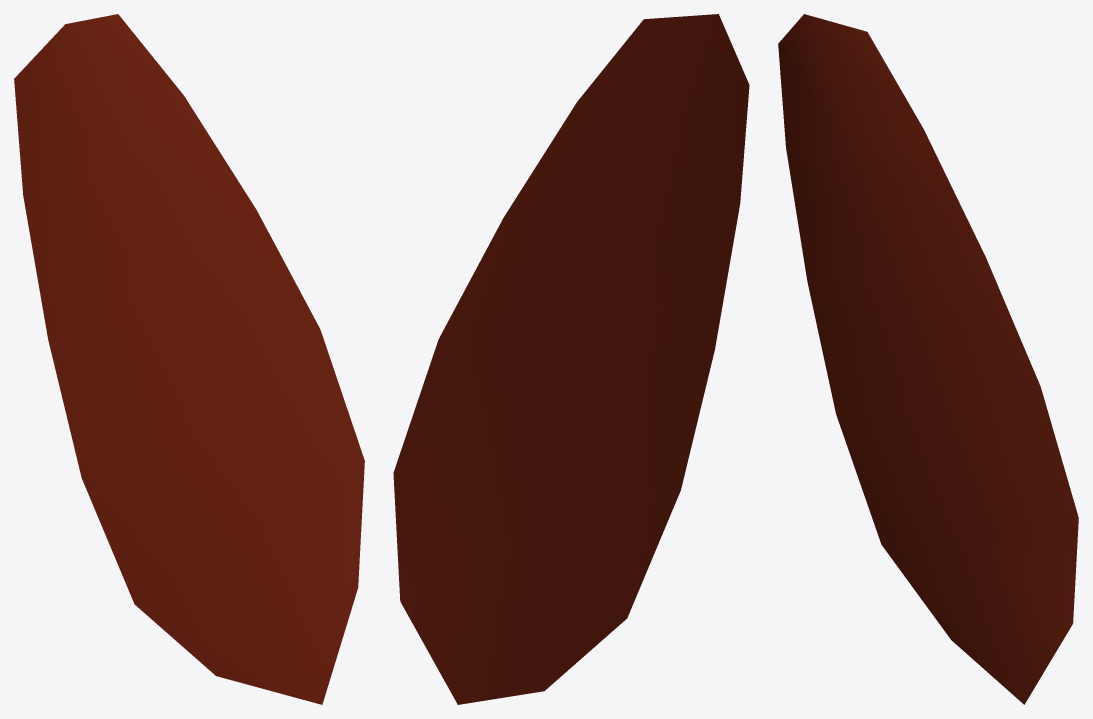
File: pheasant_feather_flight_tertiary_031.obj
3 views of the same model, side by side, from view 1: azimuth 30°, elevation 25°; view 2: azimuth 150°, elevation 25°; view 3: azimuth 330°, elevation 25° (orthographic). The views are drawn at different scales.
Parts seen in each view (by area): view 1: feather_flight_tertiary_031; view 2: feather_flight_tertiary_031; view 3: feather_flight_tertiary_031.
Part boxes in pixels (left/top/right/bottom): feather_flight_tertiary_031: left=14, top=14, right=364, bottom=704; feather_flight_tertiary_031: left=393, top=14, right=749, bottom=704; feather_flight_tertiary_031: left=778, top=14, right=1078, bottom=704.
Bounding box in the file's own units: 0.0123 × 0.0248 × 0.000634.
